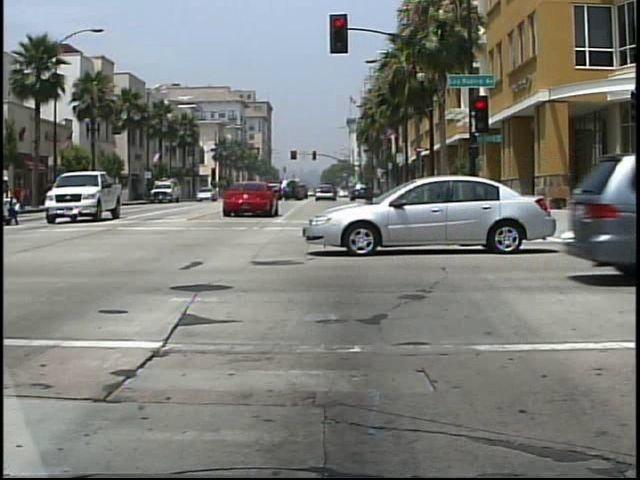person: (1, 173, 27, 230)
